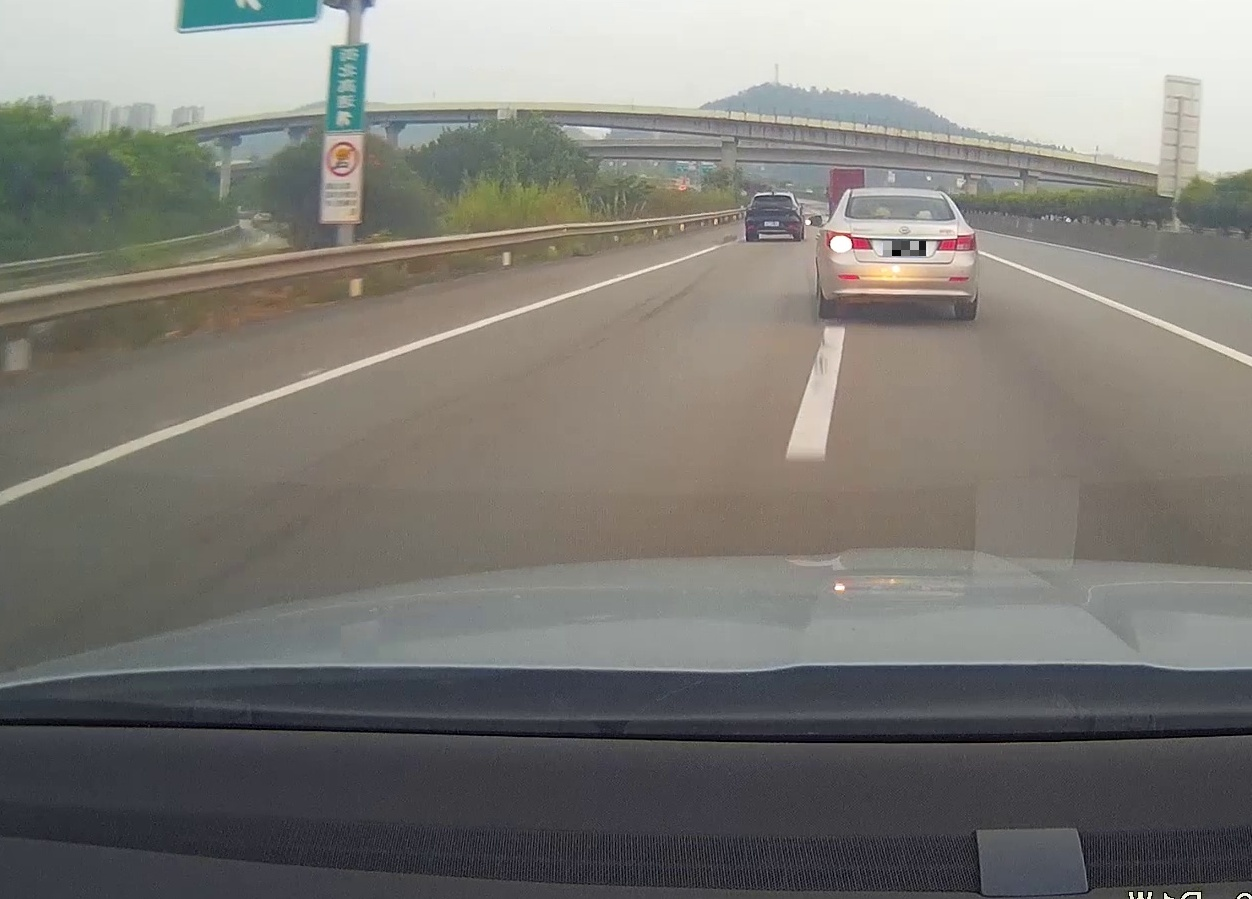L_light: (826, 230, 872, 251), (747, 206, 758, 211)
R_light: (936, 234, 977, 251), (785, 207, 798, 211)
T_light: (893, 196, 914, 200), (768, 196, 776, 198)
day-left: (820, 187, 979, 320)
day-no: (744, 192, 801, 242)
plate_1: (883, 241, 926, 256)
